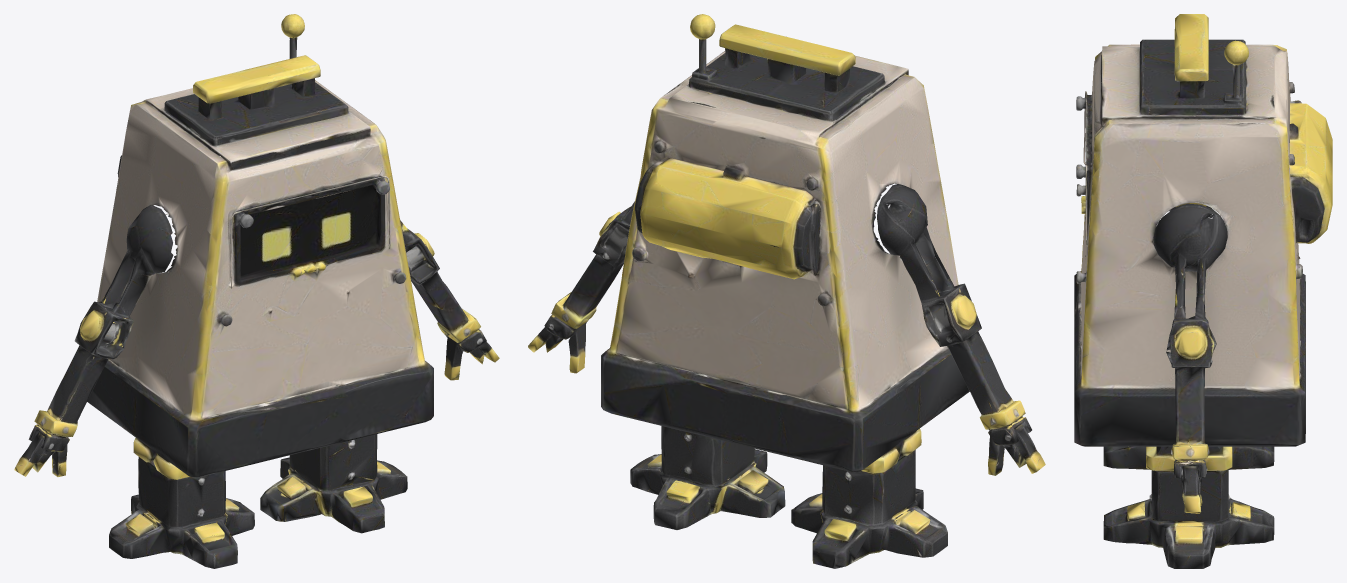
The picture shows the model from 3 angles, left to right: view 1: azimuth 30°, elevation 25°; view 2: azimuth 150°, elevation 25°; view 3: azimuth 270°, elevation 25°; orthographic projection. The views are drawn at different scales.
Visible parts, largest first — view 1: body, leg_L, leg_R, forearm_L, arm_L, forearm_R, arm_R; view 2: body, leg_L, leg_R, forearm_L, arm_L, forearm_R, arm_R; view 3: body, leg_R, arm_R, forearm_R, leg_L.
Part boxes in pixels (left/top/right/bottom): body: left=87, top=14, right=433, bottom=477; leg_L: left=109, top=438, right=254, bottom=568; leg_R: left=260, top=434, right=407, bottom=533; forearm_L: left=14, top=324, right=129, bottom=476; arm_L: left=80, top=205, right=173, bottom=338; forearm_R: left=407, top=254, right=499, bottom=380; arm_R: left=400, top=220, right=434, bottom=258; body: left=601, top=14, right=969, bottom=472; leg_L: left=791, top=428, right=947, bottom=568; leg_R: left=630, top=426, right=785, bottom=529; forearm_L: left=924, top=314, right=1045, bottom=475; arm_L: left=877, top=184, right=976, bottom=325; forearm_R: left=528, top=235, right=627, bottom=373; arm_R: left=599, top=201, right=634, bottom=245; body: left=1074, top=14, right=1332, bottom=450; leg_R: left=1103, top=446, right=1274, bottom=568; arm_R: left=1153, top=203, right=1227, bottom=351; forearm_R: left=1166, top=335, right=1216, bottom=513; leg_L: left=1103, top=446, right=1274, bottom=469.
Bounding box in the file's own units: 1.53 × 1.44 × 0.694.
Materials: 1 (1 with a texture image).
